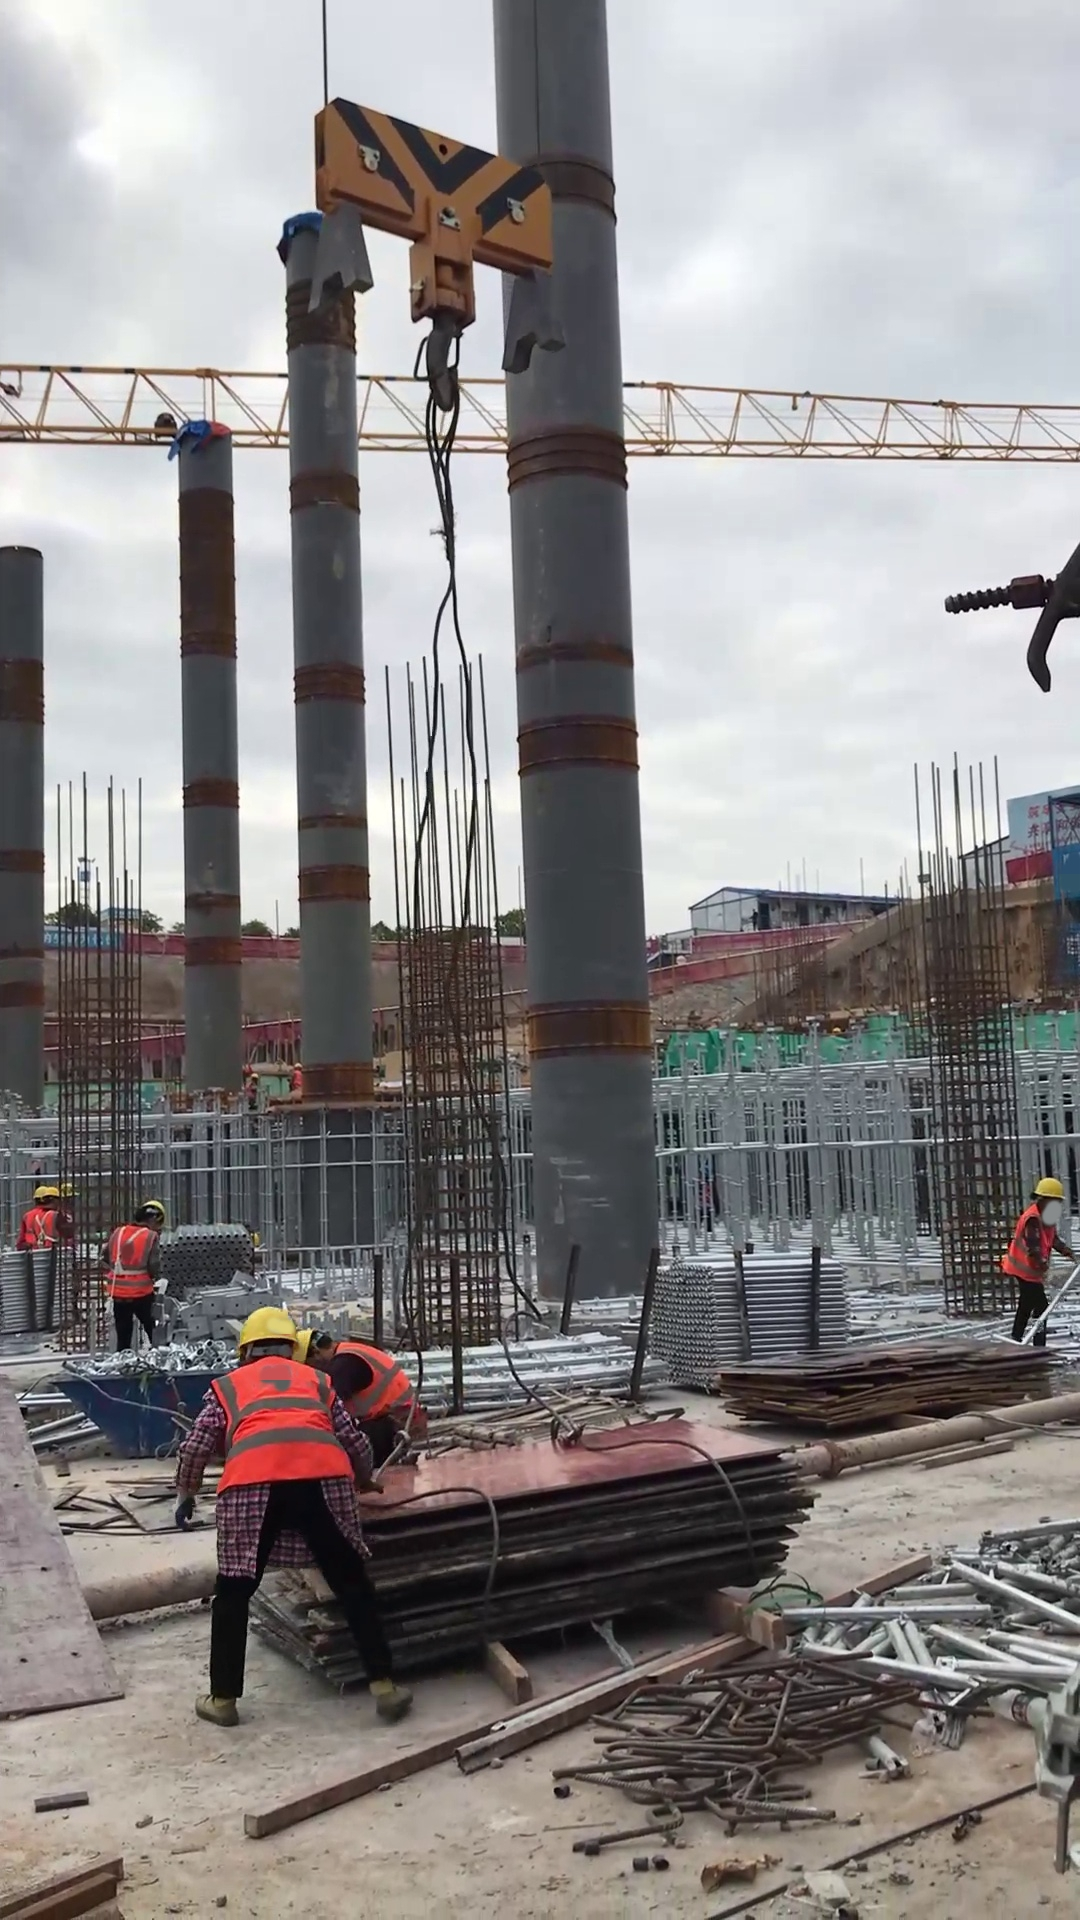board: (340, 1421, 810, 1657), (720, 1340, 1053, 1426)
hook: (299, 94, 566, 416)
hopper: (44, 1361, 230, 1457)
person: (170, 1304, 418, 1728), (296, 1323, 421, 1464), (998, 1174, 1080, 1349), (96, 1197, 167, 1352), (231, 1304, 298, 1350), (31, 1184, 75, 1255), (15, 1184, 44, 1252), (292, 1325, 316, 1362), (1032, 1175, 1066, 1201), (288, 1060, 304, 1098), (39, 1185, 59, 1202), (32, 1185, 46, 1198), (251, 1070, 258, 1080), (293, 1061, 302, 1069)
scaffold: (640, 1249, 850, 1393), (396, 1331, 676, 1418), (156, 1219, 254, 1296), (1, 1245, 82, 1334)
slogan: (1021, 794, 1080, 841), (43, 928, 127, 956)
vest: (208, 1356, 360, 1496), (334, 1340, 418, 1418), (998, 1200, 1057, 1287), (105, 1221, 158, 1300), (31, 1207, 60, 1250), (19, 1207, 41, 1246), (292, 1069, 303, 1090)
